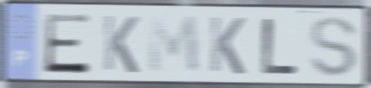E: (42, 12, 93, 76)
K: (102, 12, 141, 76), (208, 14, 247, 77)
L: (260, 16, 302, 76)
M: (146, 13, 203, 76)
S: (307, 14, 360, 80)
